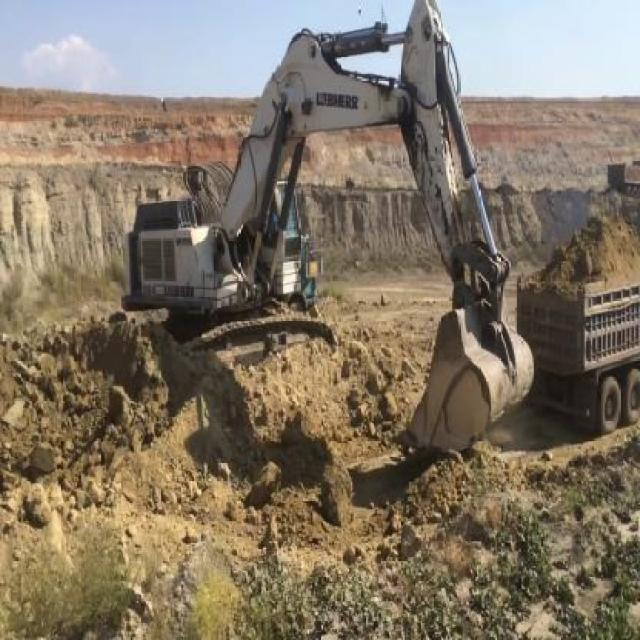dump_truck: (513, 213, 639, 435)
excavator: (121, 0, 536, 458)
